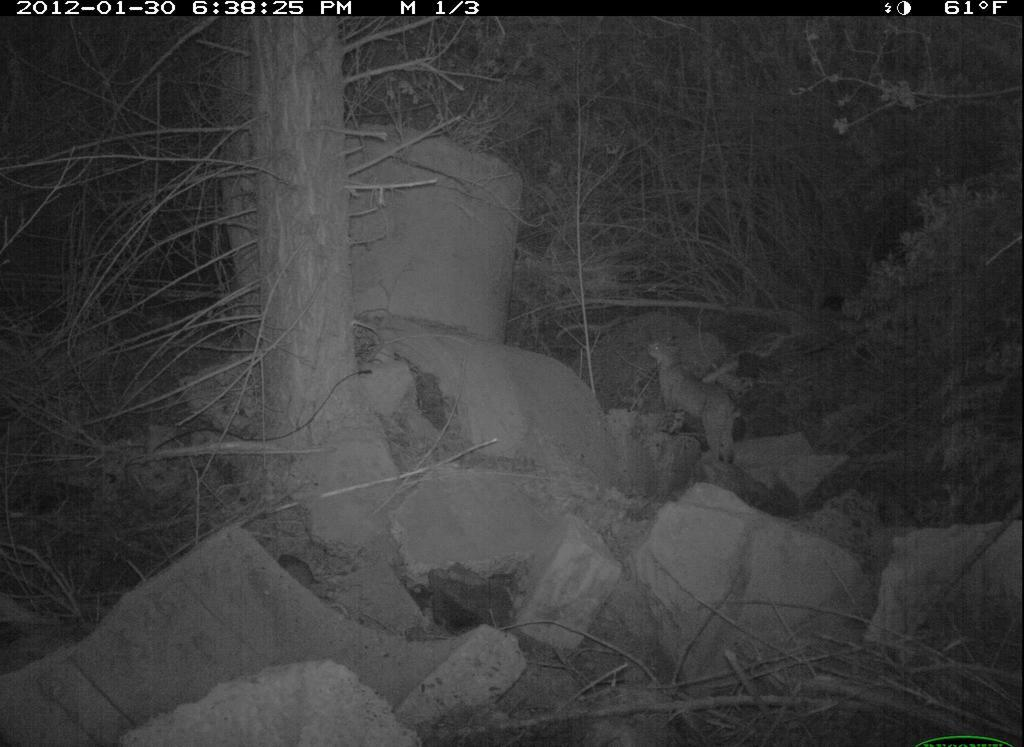bobcat: (644, 327, 752, 482)
